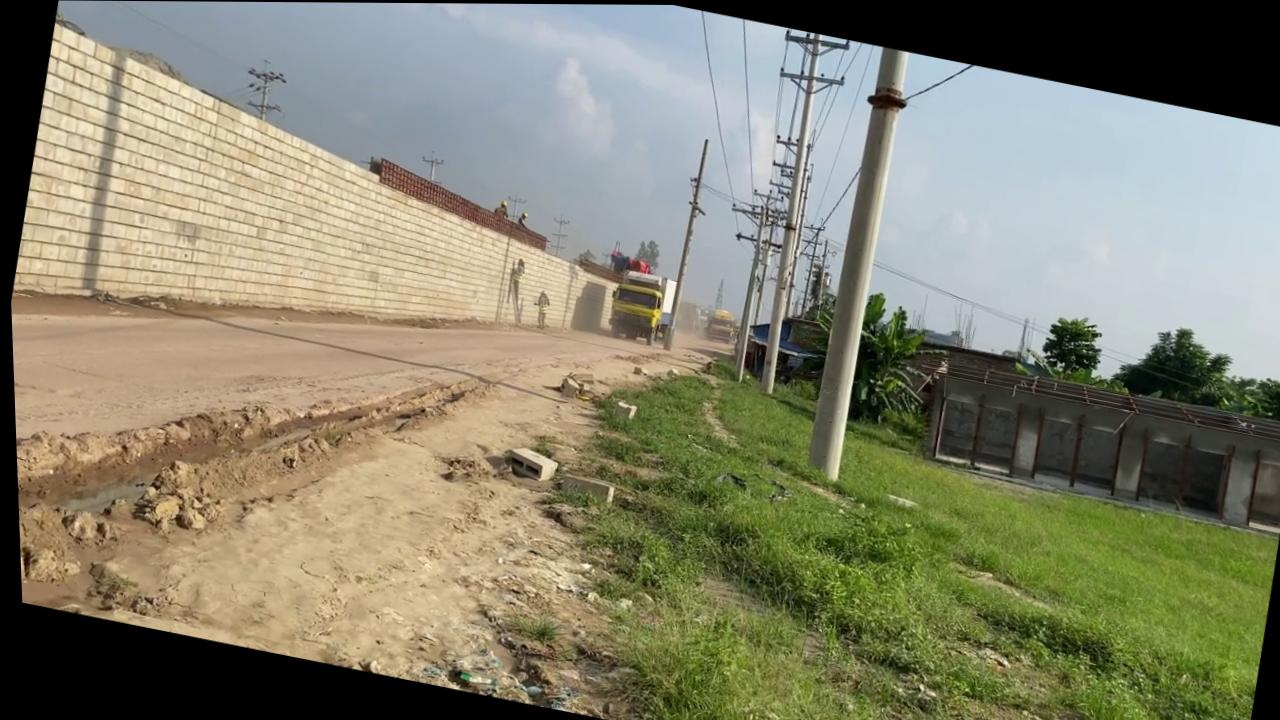Car: (729, 304, 831, 391)
Obstacle: (496, 441, 556, 483), (608, 397, 635, 420)
Pole: (786, 43, 923, 484), (652, 134, 716, 351)
Rickshaw: (6, 198, 742, 720)
Traffic-sign: (1105, 310, 1240, 409), (1032, 306, 1105, 382)
Tree: (561, 233, 681, 347), (599, 264, 676, 347), (696, 275, 738, 341), (602, 238, 652, 278)
Upstairs: (2, 17, 651, 408)
